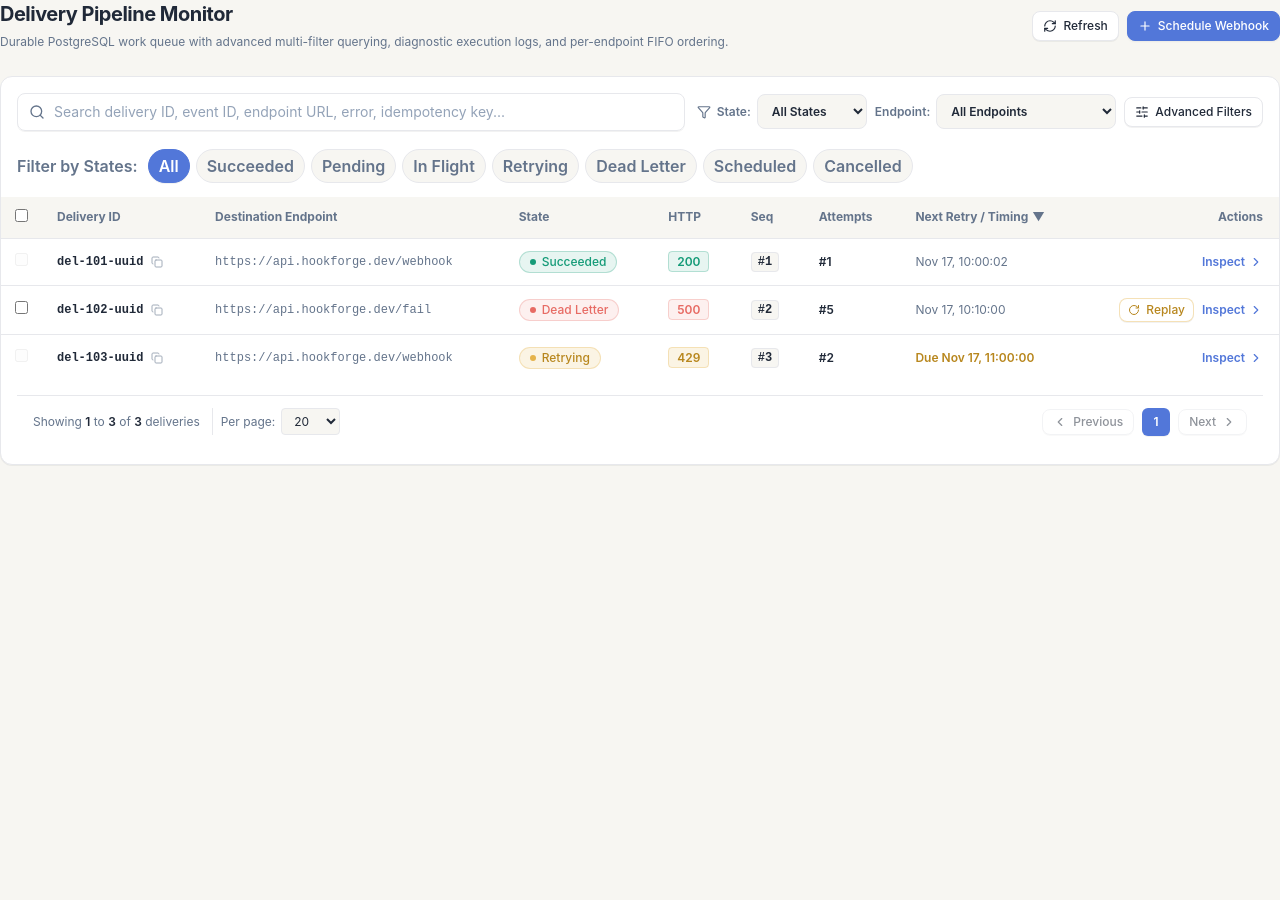
Test: DeliveriesPage Component › Dead Letter Replay & Drawer Integration › provides a direct Replay button in the row for DEAD deliveries
This screenshot has width=1280, height=900.
Expected: the text "del-102-uuid" is shown, [57,302,143,318]
// Click replay button opens ReplayModal
Click the button with aria-label "replay dead delivery del-102-uuid" at (1157, 310), box [1119,298,1194,322]
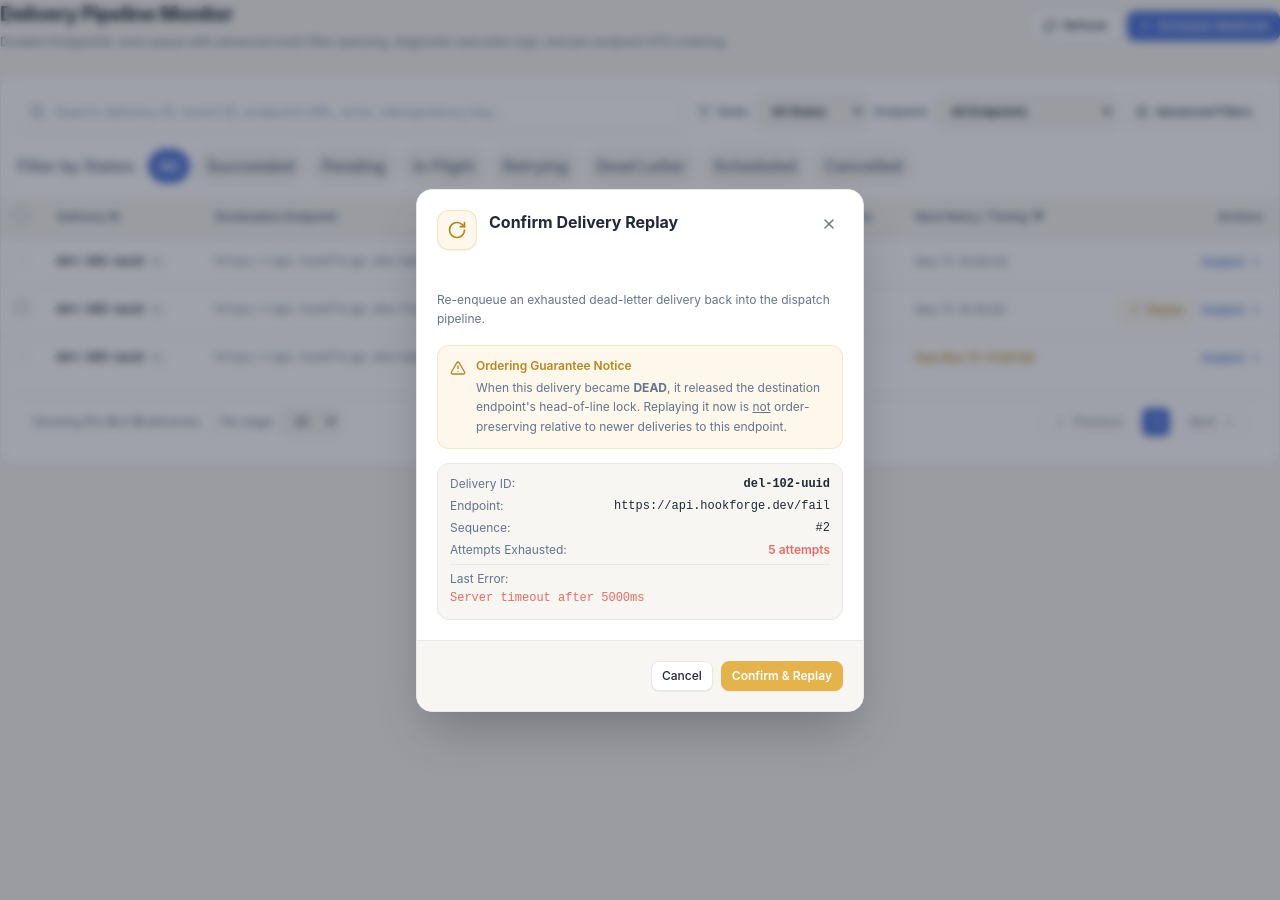
Now the heading "Confirm Delivery Replay" is shown, box [489,212,678,232]
Now the text "Ordering Guarantee Notice" is shown, box [476,358,632,372]
